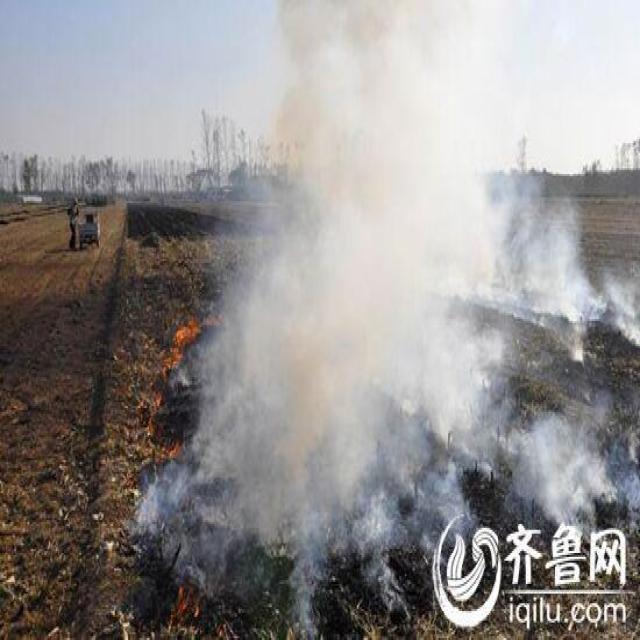fire: (154, 311, 216, 364), (146, 396, 182, 462), (165, 573, 204, 615)
smoke: (232, 18, 465, 506), (427, 136, 498, 293), (534, 421, 584, 511), (544, 238, 592, 325), (604, 283, 638, 338)
